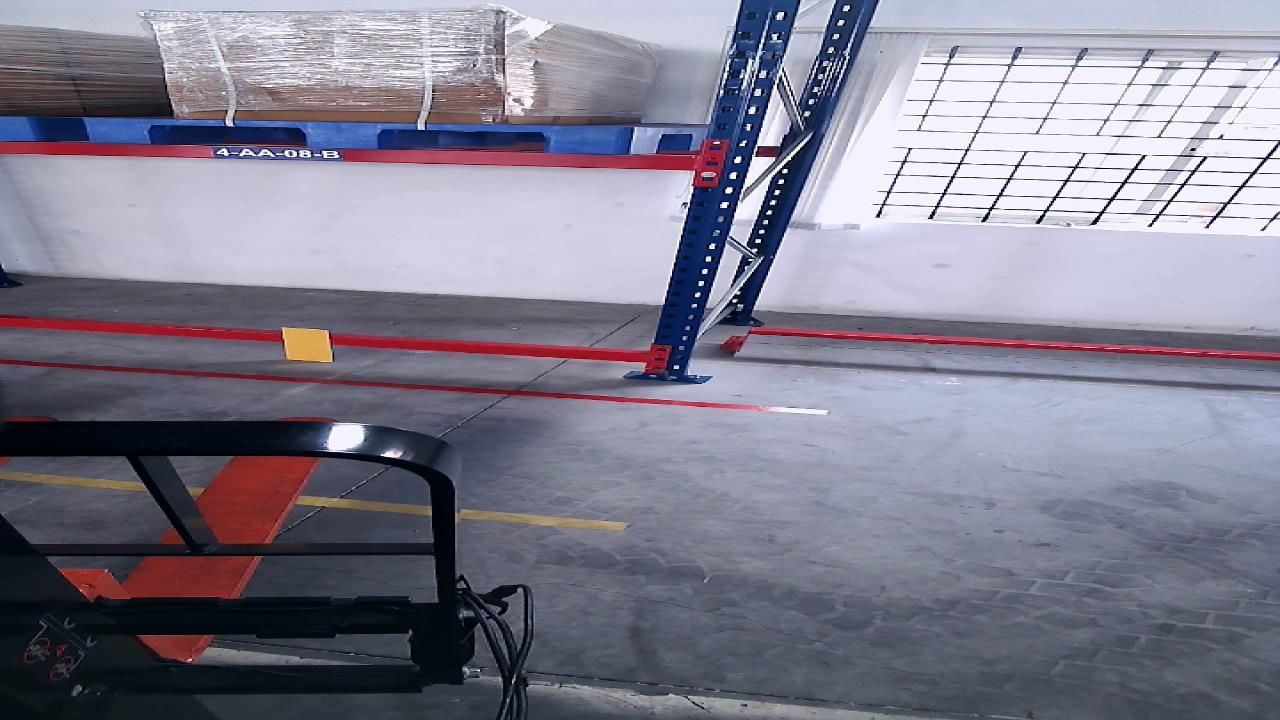h_rack: (0, 316, 649, 362), (0, 142, 690, 170)
orange_strip: (284, 327, 337, 362)
red_line: (4, 359, 829, 415)
small_pallet: (85, 117, 630, 154)
yellow_line: (295, 491, 627, 532)
